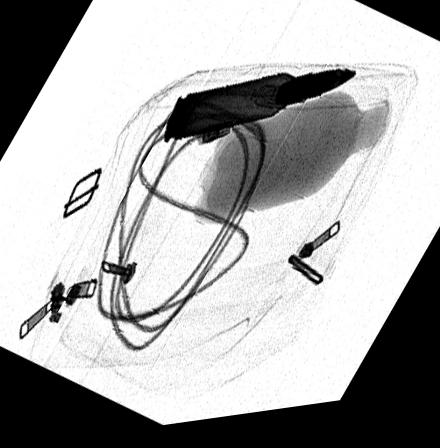Bullet: (163, 74, 361, 148)
